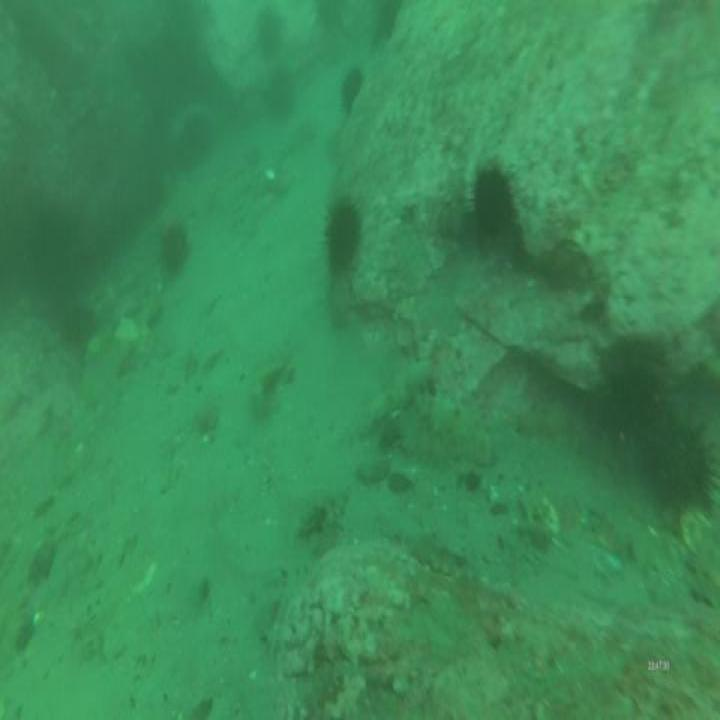echinus: (639, 398, 720, 523), (467, 155, 521, 249), (319, 194, 365, 277), (175, 106, 218, 164), (56, 300, 102, 354), (156, 215, 192, 283), (262, 71, 297, 130), (252, 4, 286, 64), (337, 61, 366, 118), (370, 0, 402, 46), (312, 0, 346, 34)
holothurian: (358, 349, 439, 439), (416, 388, 502, 470), (572, 489, 637, 563), (409, 523, 472, 583), (514, 390, 581, 444)
